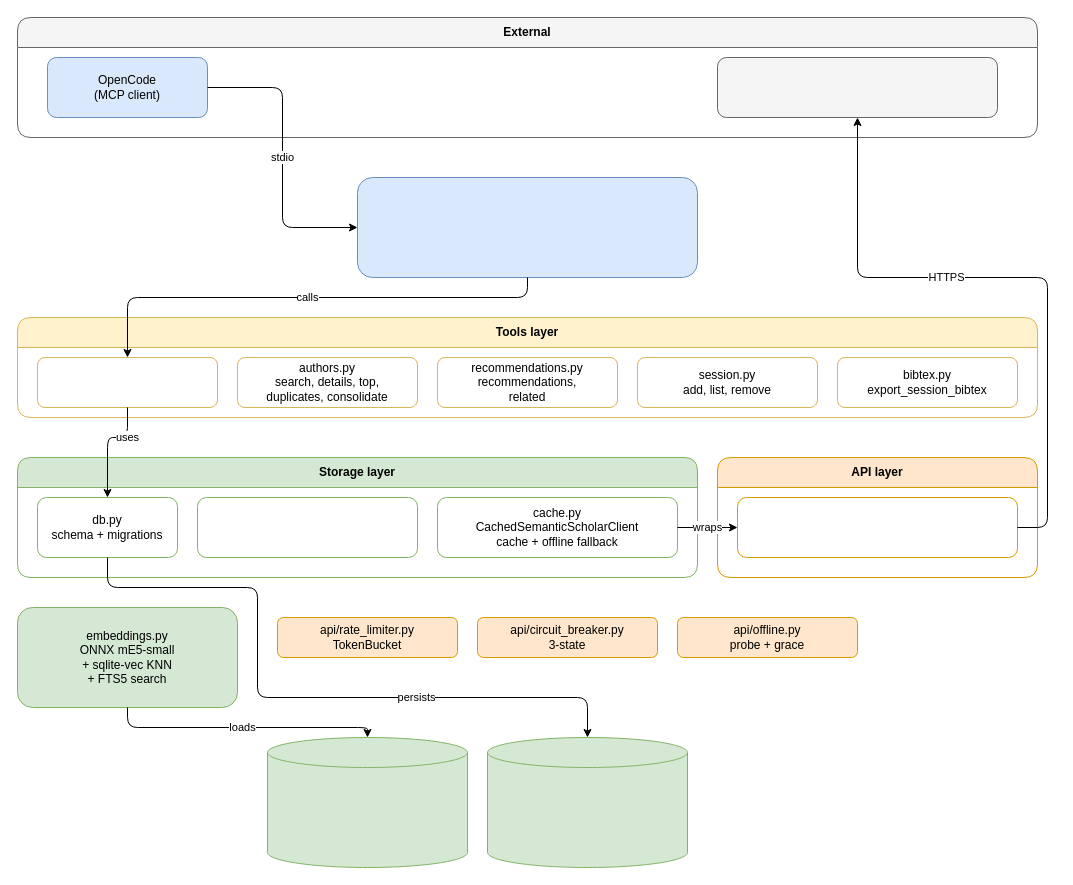
Some shapes in this 1073 by 885 pixel diagram are drawn without their labels. Each missing label, with the centre of its shape:
client.py SemanticScholarClient 8 endpoint methods: (877,527)
FastMCP Server server.py stdio transport + lifespan 15 tool wrappers: (527,227)
mE5-small int8 ONNX model (~118MB, git LFS): (367,802)
papers / authors / citations / sessions CRUD + upsert: (307,527)
papers.py search, details, citations, references: (127,382)
Semantic Scholar API api.semanticscholar.org: (857,87)
SQLite cache.db ~/.local/share/ scholar-paper-mcp/: (587,802)
